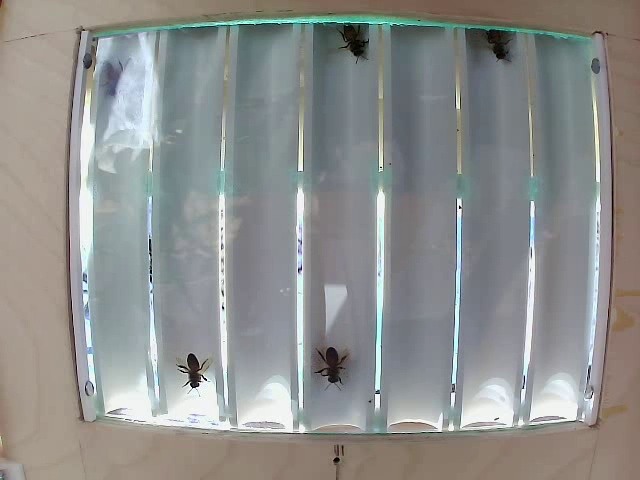bee: (475, 14, 529, 78), (310, 333, 358, 402), (333, 14, 382, 77), (171, 345, 219, 398)
